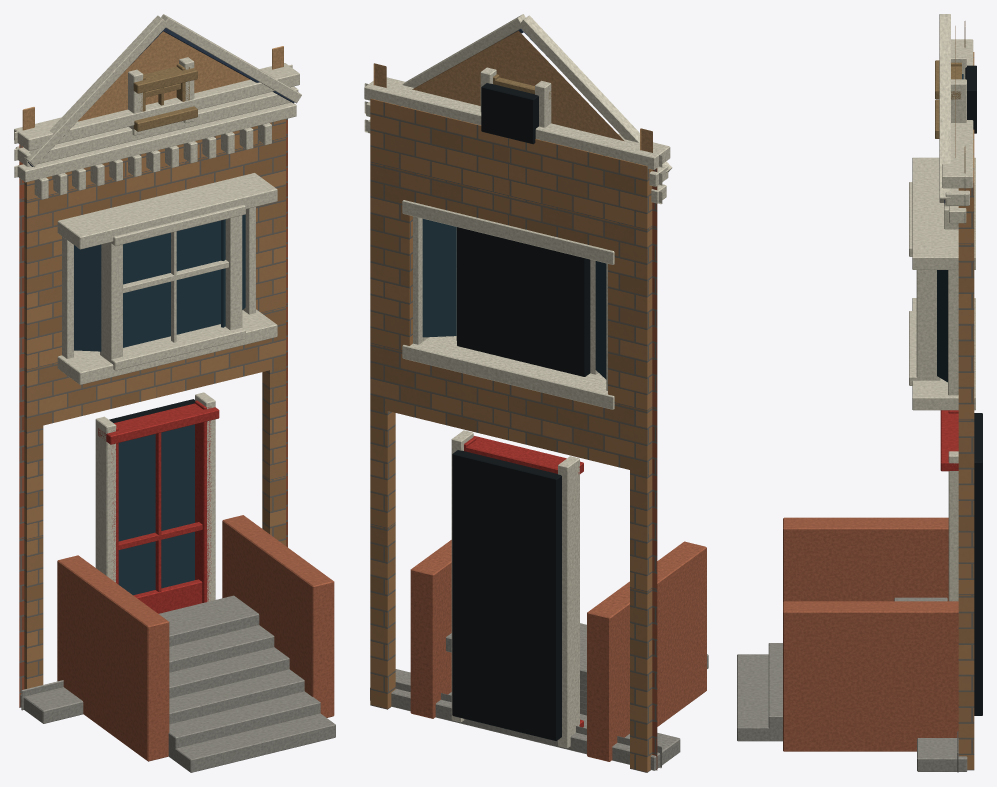
Rendered from VICT2B_lod1.glb.
3 renders of one model, left to right at view 1: azimuth 30°, elevation 25°; view 2: azimuth 150°, elevation 25°; view 3: azimuth 270°, elevation 25°, orthographic. The views are drawn at different scales.
Visible parts, largest first — view 1: VICT2B_FRONT_LOD1; view 2: VICT2B_FRONT_LOD1; view 3: VICT2B_FRONT_LOD1.
Part boxes in pixels (x1,y1,x2,y2): VICT2B_FRONT_LOD1: (14, 14, 335, 772); VICT2B_FRONT_LOD1: (364, 14, 708, 772); VICT2B_FRONT_LOD1: (737, 14, 982, 772).
Bounding box in the file's own units: 3.44 × 7.86 × 2.54.
12 materials, 10 textured.
